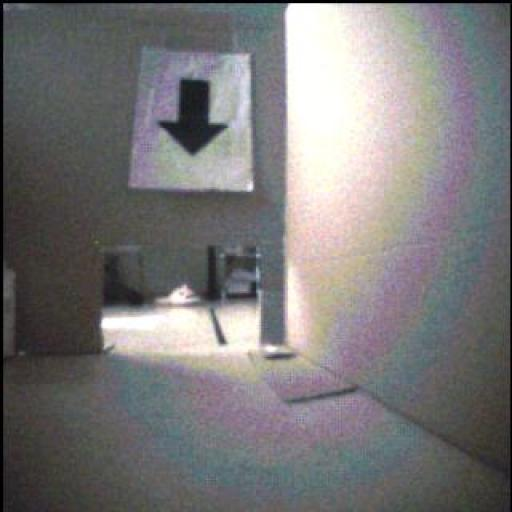arrow: (160, 81, 229, 156)
